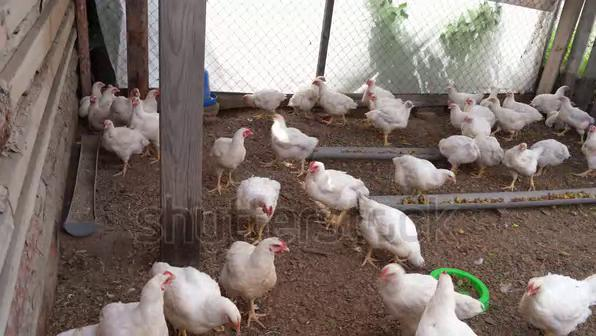Pollos: (360, 197, 428, 270), (171, 273, 243, 331), (526, 275, 593, 334), (114, 269, 169, 336), (228, 233, 285, 295), (382, 265, 431, 327), (303, 159, 363, 207), (419, 272, 462, 336), (395, 156, 454, 200), (266, 114, 315, 158), (236, 177, 278, 227), (210, 126, 253, 171), (487, 96, 526, 135), (370, 101, 415, 134), (101, 120, 144, 154), (533, 137, 577, 170), (312, 79, 354, 113), (556, 96, 594, 131), (505, 88, 543, 122), (239, 87, 285, 113), (507, 143, 539, 180), (439, 135, 477, 165), (131, 96, 162, 131), (474, 134, 498, 175), (533, 84, 571, 109), (460, 115, 489, 141), (361, 79, 396, 99), (584, 125, 596, 176), (88, 96, 108, 124), (464, 97, 490, 116), (445, 84, 467, 102), (446, 103, 464, 120), (103, 85, 119, 103), (92, 75, 104, 98)
